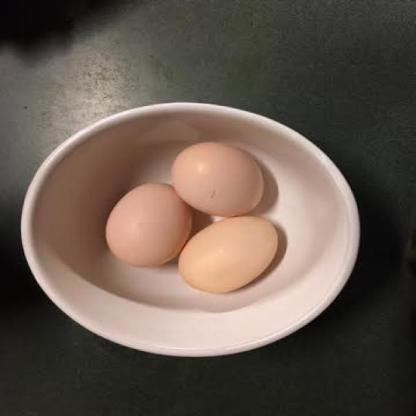egg: (170, 204, 311, 304), (148, 124, 289, 221), (104, 165, 198, 274)
